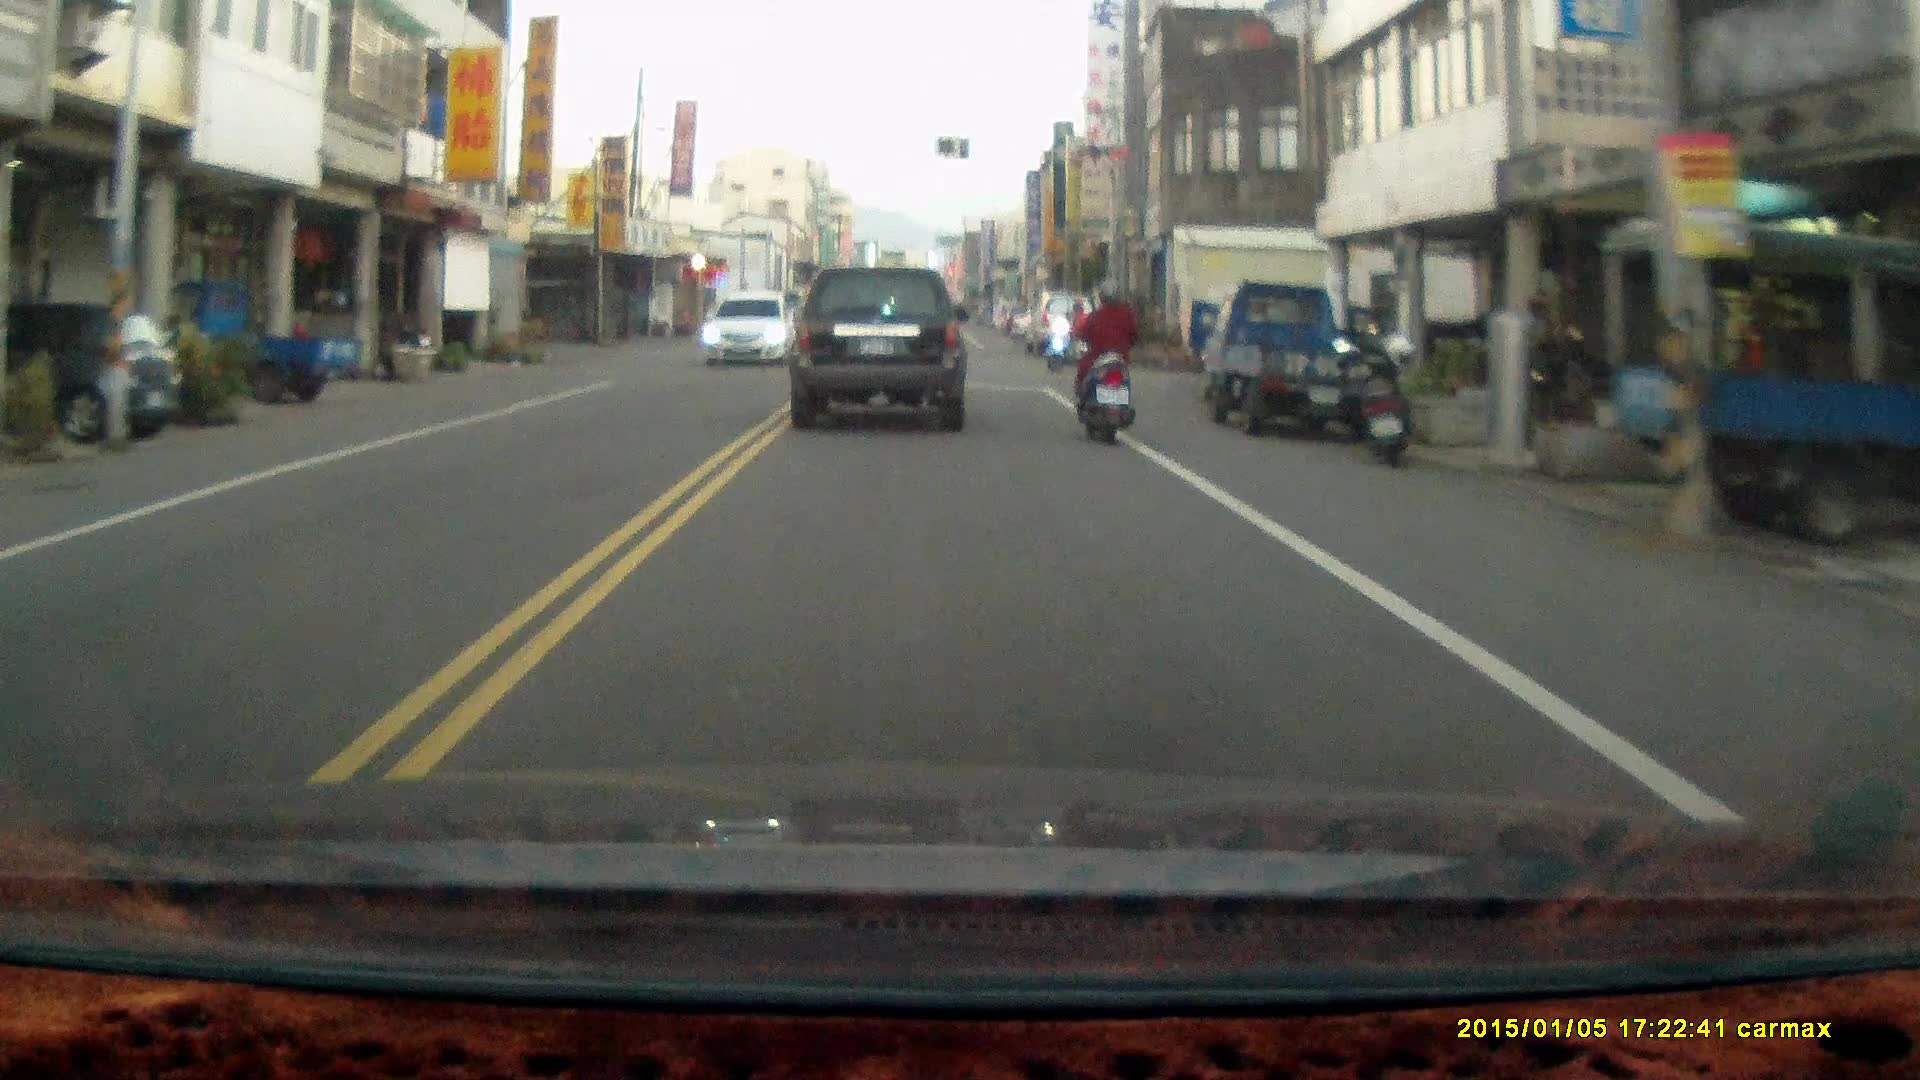rider: (1075, 274, 1136, 441), (1042, 297, 1091, 366)
vehicle: (1599, 216, 1920, 538), (1204, 279, 1406, 434), (792, 260, 971, 429), (154, 277, 364, 402), (1, 299, 178, 441), (702, 290, 798, 368)
